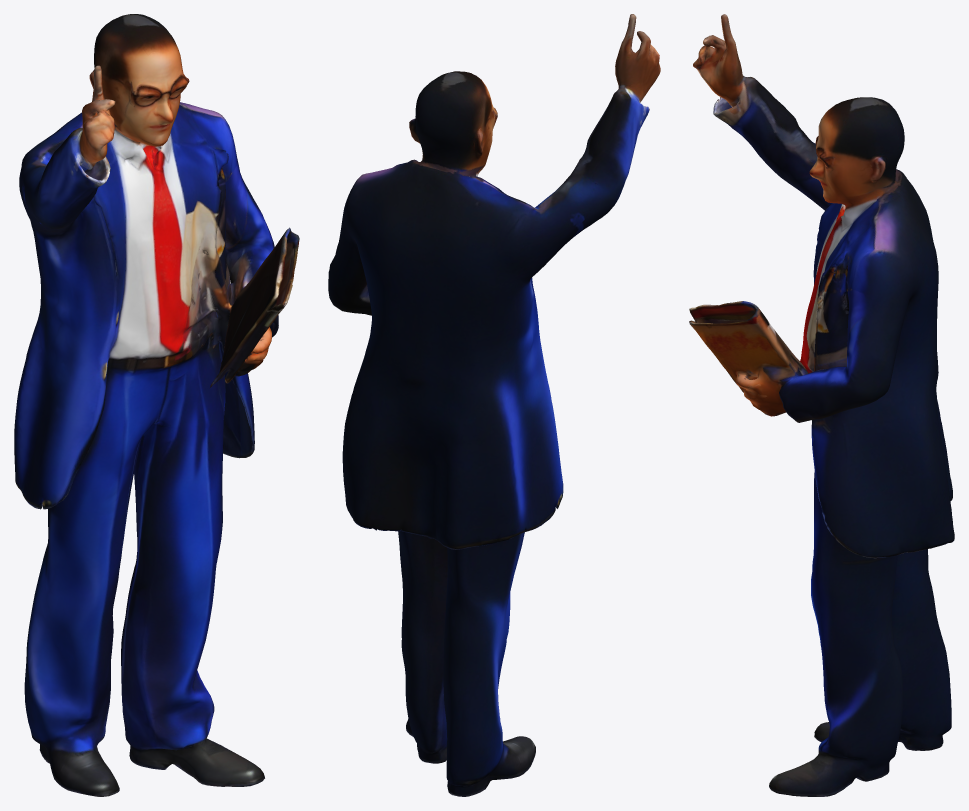
Rendered from ambedkar-model.glb.
The picture shows the model from 3 angles, left to right: view 1: azimuth 30°, elevation 25°; view 2: azimuth 150°, elevation 25°; view 3: azimuth 270°, elevation 25°; orthographic projection. The views are drawn at different scales.
Visible parts, largest first — view 1: Object_2; view 2: Object_2; view 3: Object_2.
Part boxes in pixels (left/top/right/bottom): Object_2: left=14, top=14, right=299, bottom=796; Object_2: left=328, top=14, right=660, bottom=796; Object_2: left=689, top=14, right=954, bottom=796.
Size of the model in its own units: 0.7262 by 2 by 0.6859.
1 material, 1 textured.
